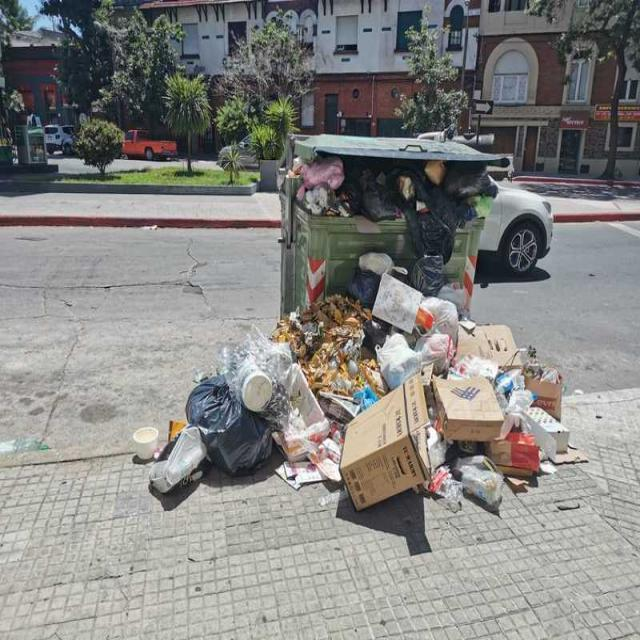high trash: (151, 156, 588, 512)
